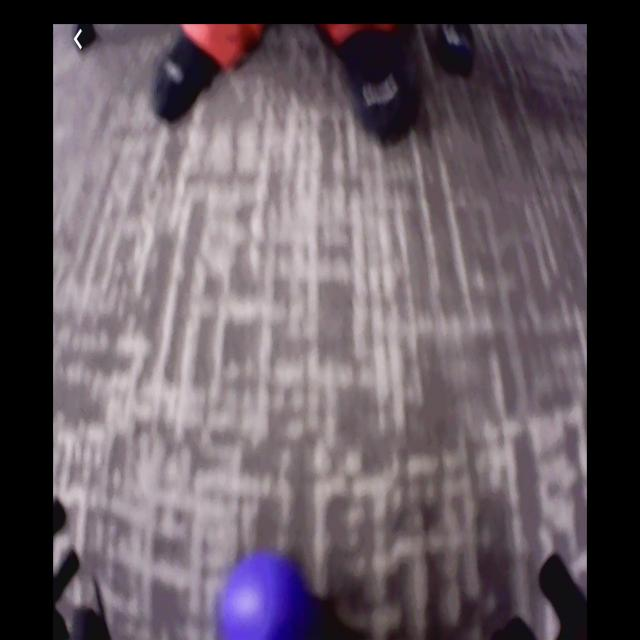ball: (215, 554, 312, 640)
